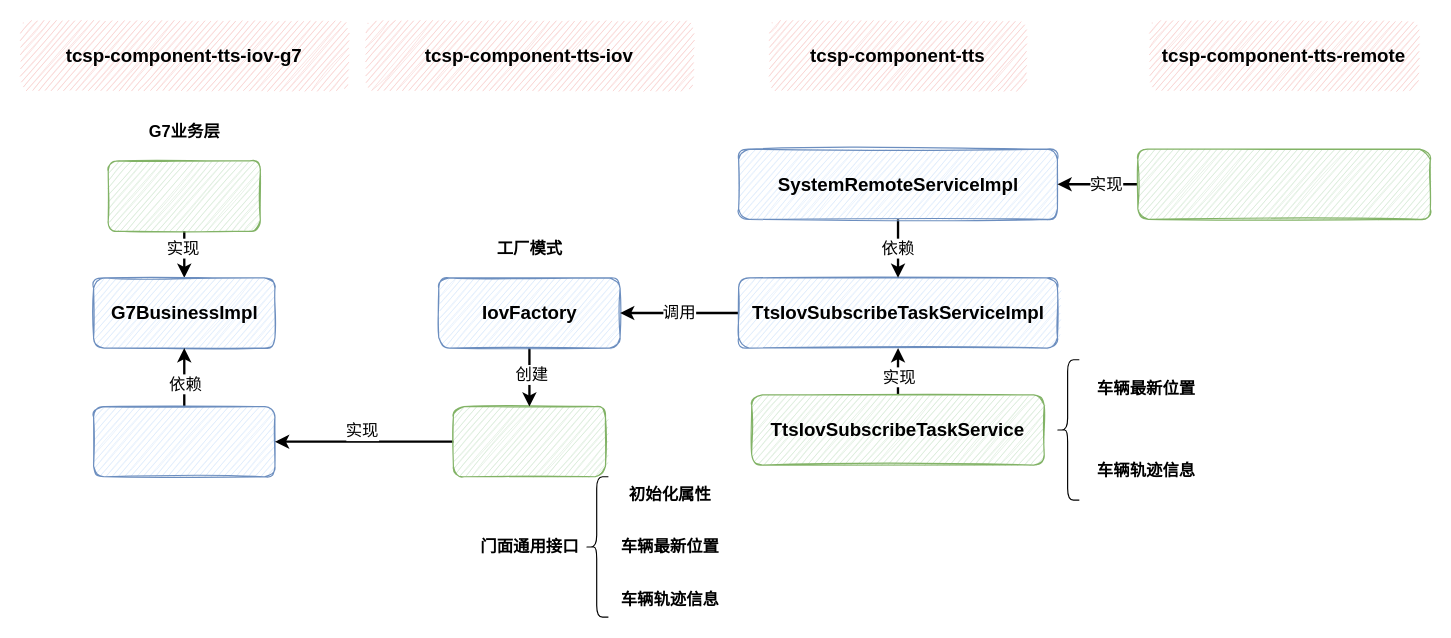
Image size: 1451x638. Some labels were removed from this diagram. Here are the shapes that lost their labels. From the top down, the centre of each, then its label:
At (183,195): "G7Business".
At (1283,183): "SystemRemoteService".
At (183,441): "G7Facade".
At (528,441): "IovFacade".
